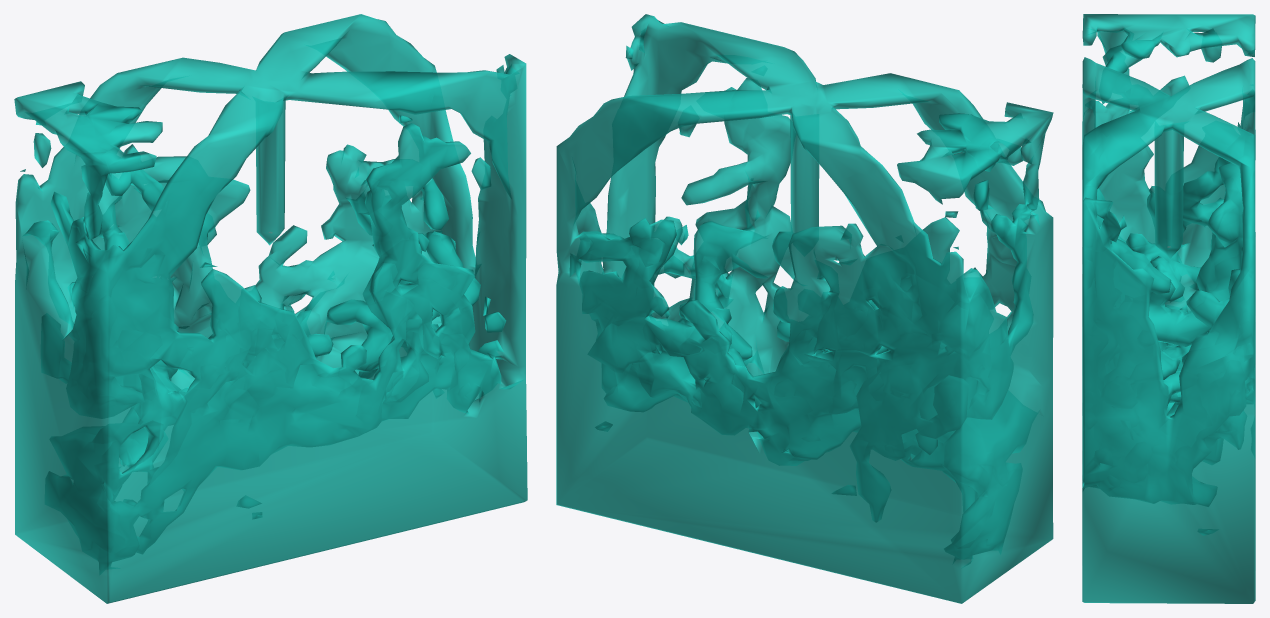
The picture shows the model from 3 angles, left to right: view 1: azimuth 30°, elevation 25°; view 2: azimuth 150°, elevation 25°; view 3: azimuth 270°, elevation 25°; orthographic projection. The views are drawn at different scales.
Visible parts, largest first — view 1: Liquid_Domain; view 2: Liquid_Domain; view 3: Liquid_Domain.
Part boxes in pixels (x1,y1,x2,y2): Liquid_Domain: [14, 14, 527, 603]; Liquid_Domain: [556, 14, 1053, 603]; Liquid_Domain: [1082, 14, 1255, 603].
Bounding box in the file's own units: 1965 × 1965 × 766.
